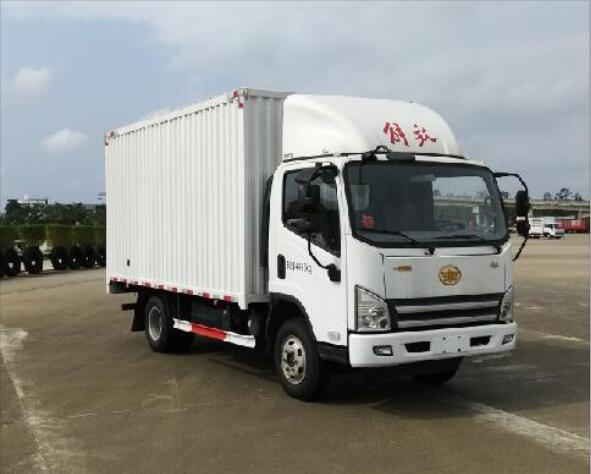smalltruck: (64, 75, 528, 411)
